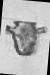F34: (2, 0, 49, 74)
